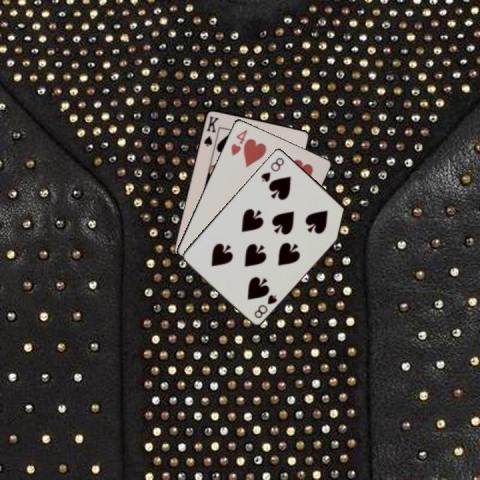4h: (228, 126, 249, 156)
8s: (251, 292, 279, 320), (258, 154, 285, 183)
Ks: (201, 114, 220, 147)
